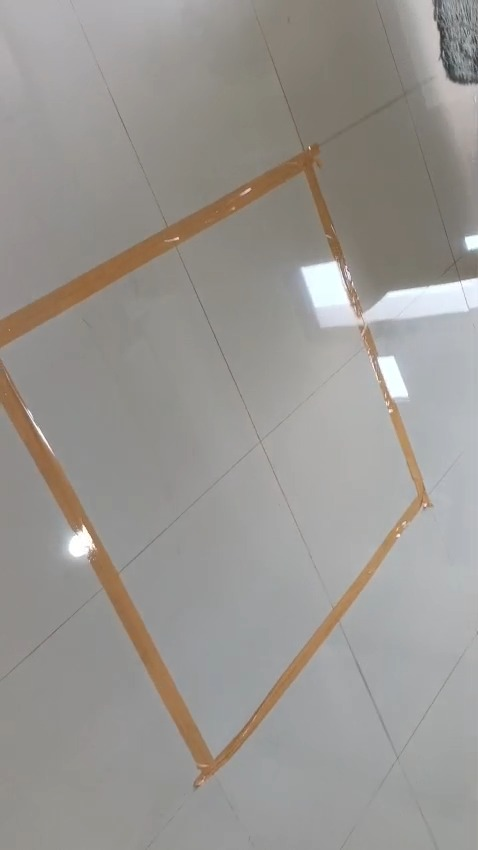floor marking: (0, 146, 430, 786)
